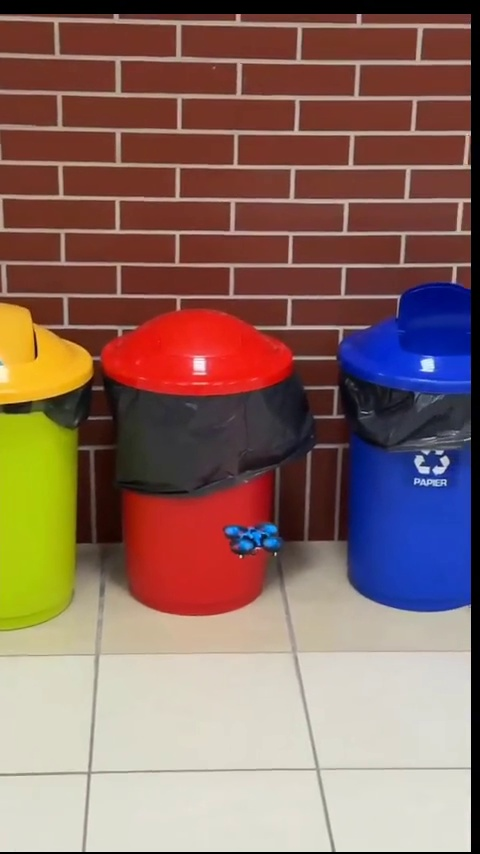drone: (220, 518, 281, 562)
